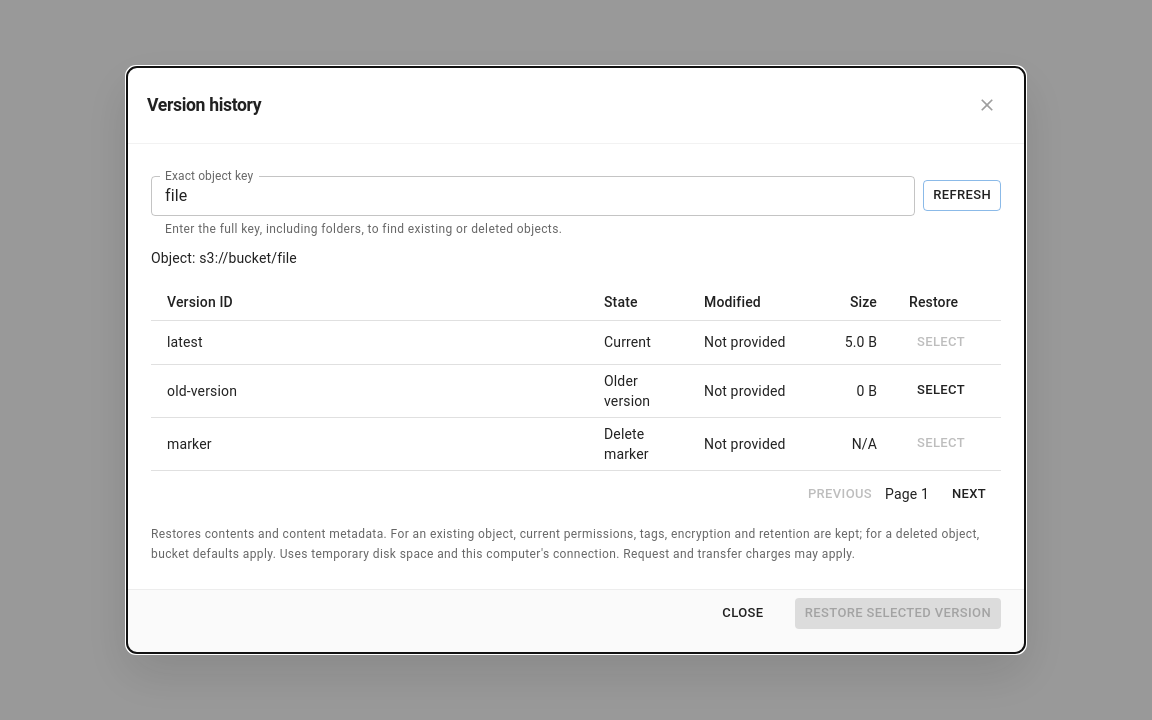
Test: pagination carries both markers and Previous restores the cached page
Check: the text "old-version" is shown, box left=167, top=383, right=237, bottom=399
Click the button "Next" at [969, 494], box left=937, top=479, right=1001, bottom=510
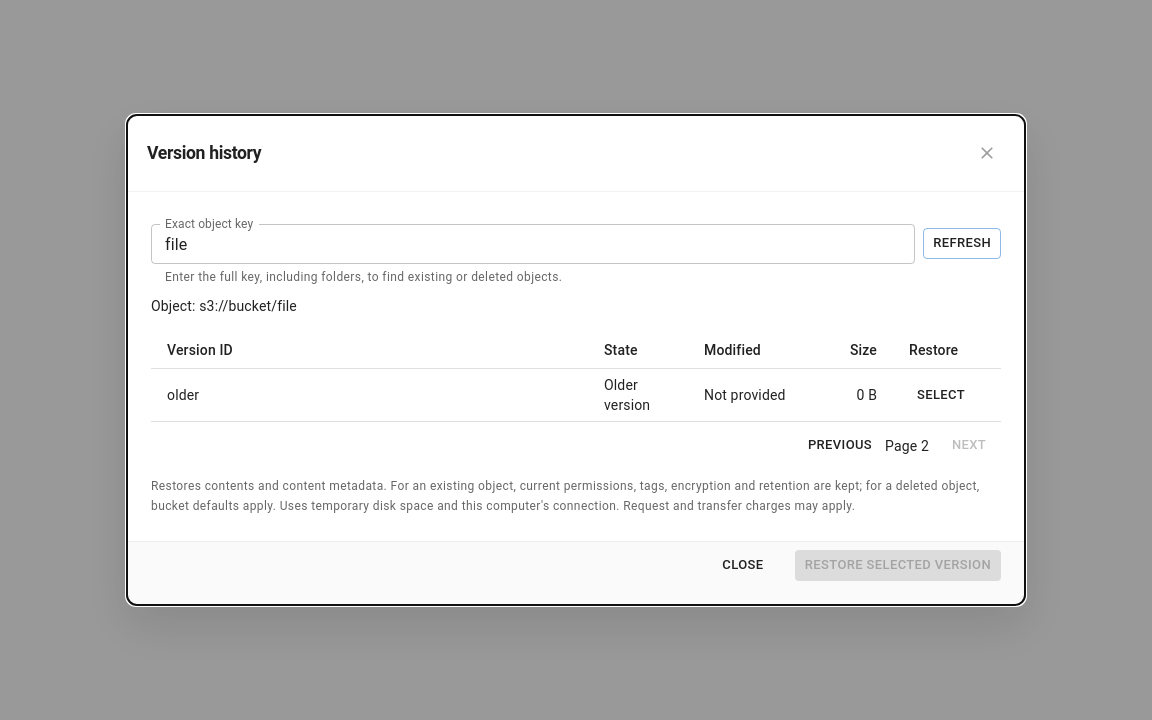
Check: the text "older" is shown, box left=167, top=387, right=199, bottom=403
Click the button "Previous" at [840, 446], box left=803, top=430, right=877, bottom=461
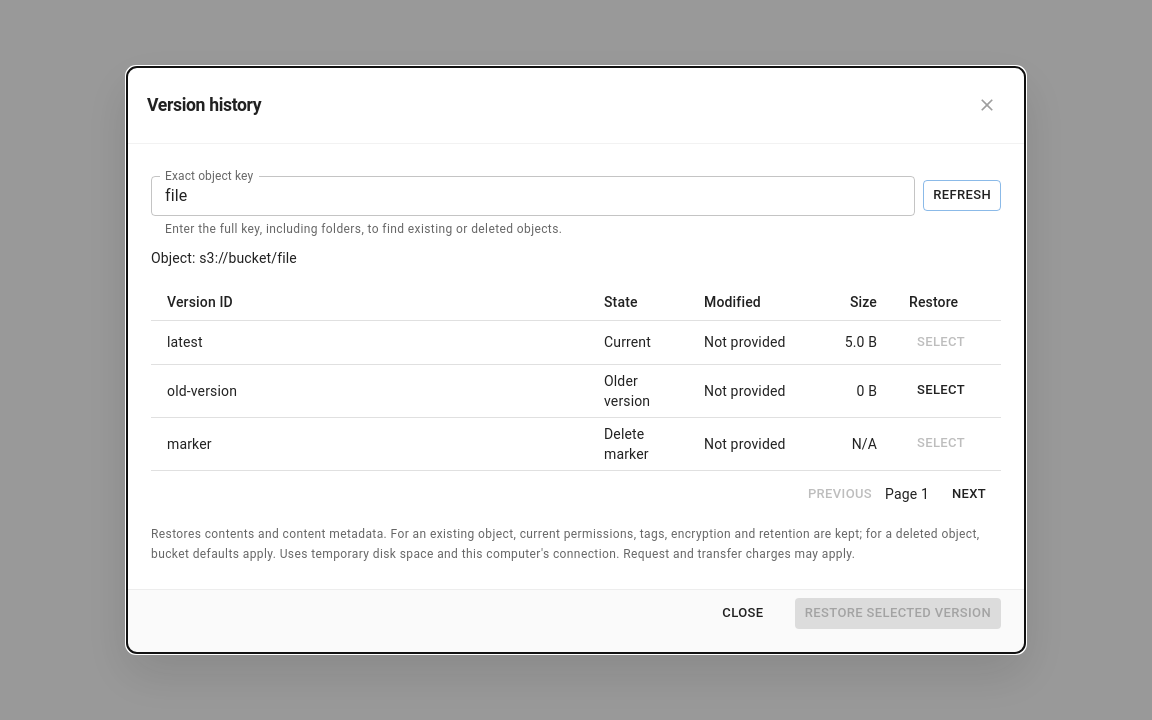
Check: the text "old-version" is shown, box left=167, top=383, right=237, bottom=399
